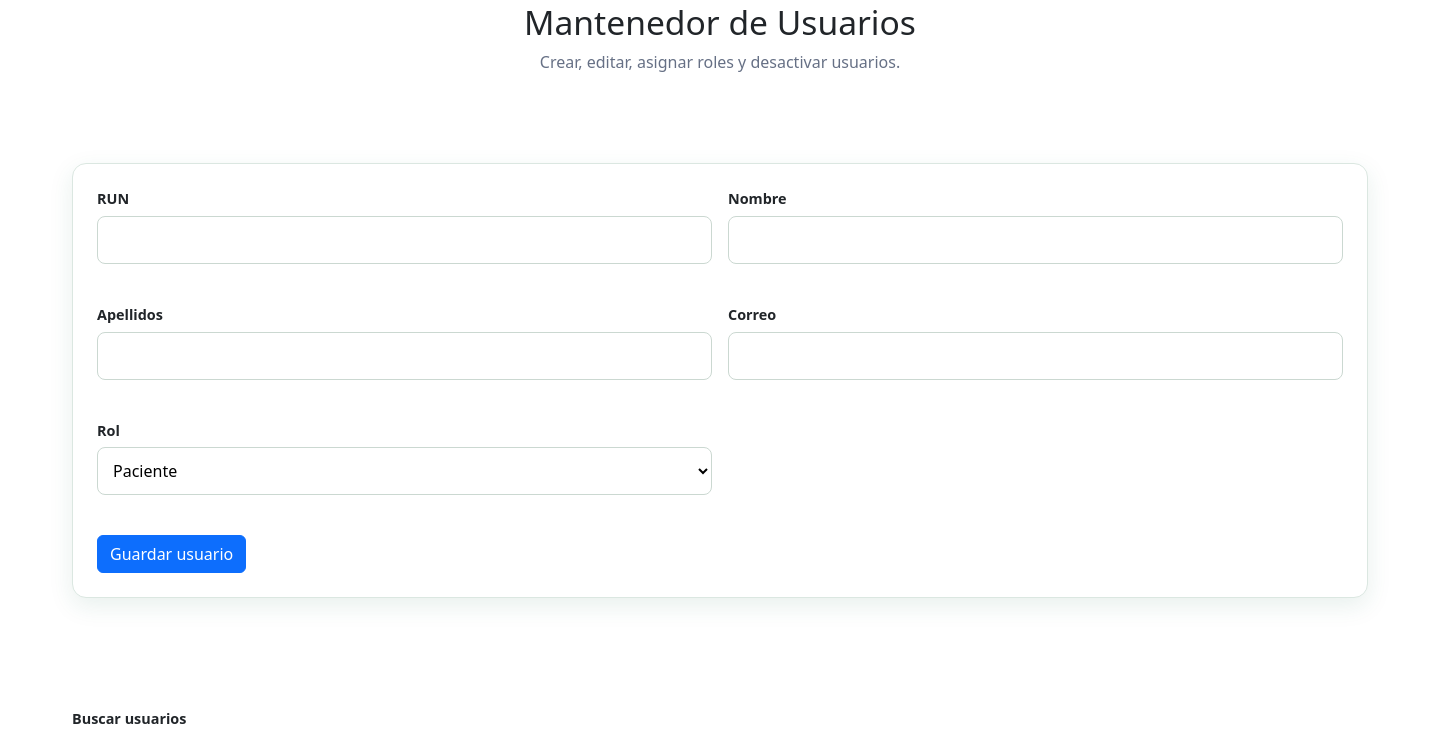
AdminUsuarios › crea un usuario nuevo
Type "12.345.678-5" into the field labelled "RUN" at (404, 240), box x1=97 y1=216 x2=712 y2=264
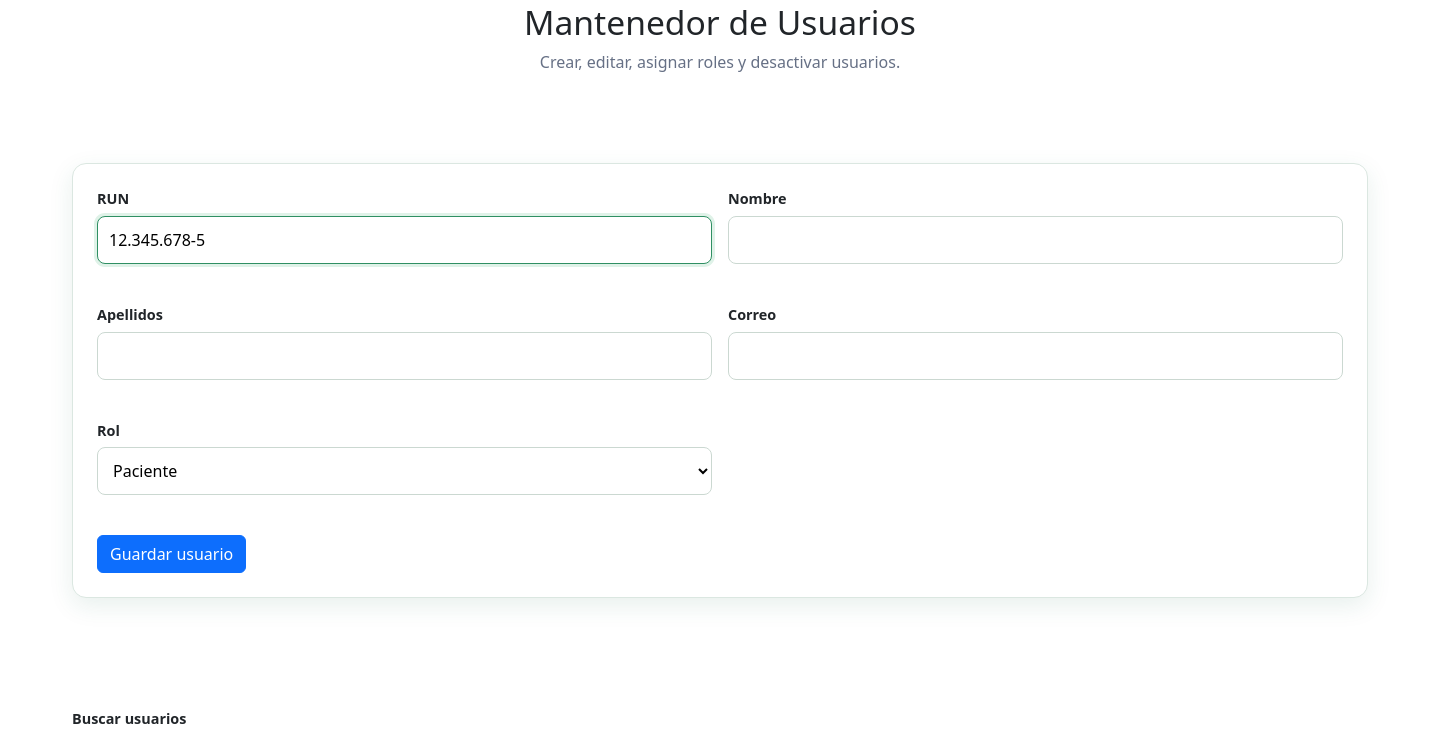
Type "Nuevo" into the field labelled "Nombre" at (1036, 240), box x1=728 y1=216 x2=1343 y2=264
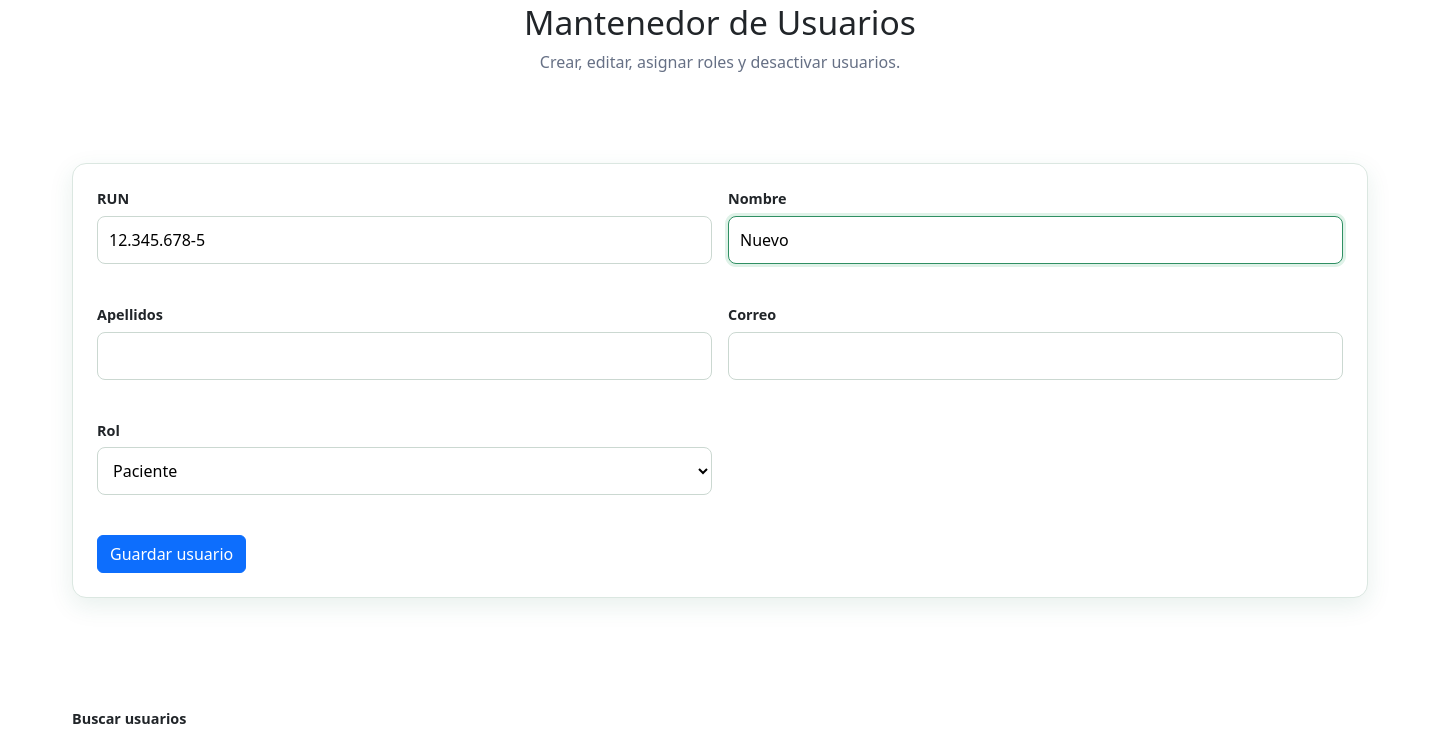
Type "Usuario" into the field labelled "Apellidos" at (404, 356), box x1=97 y1=332 x2=712 y2=380
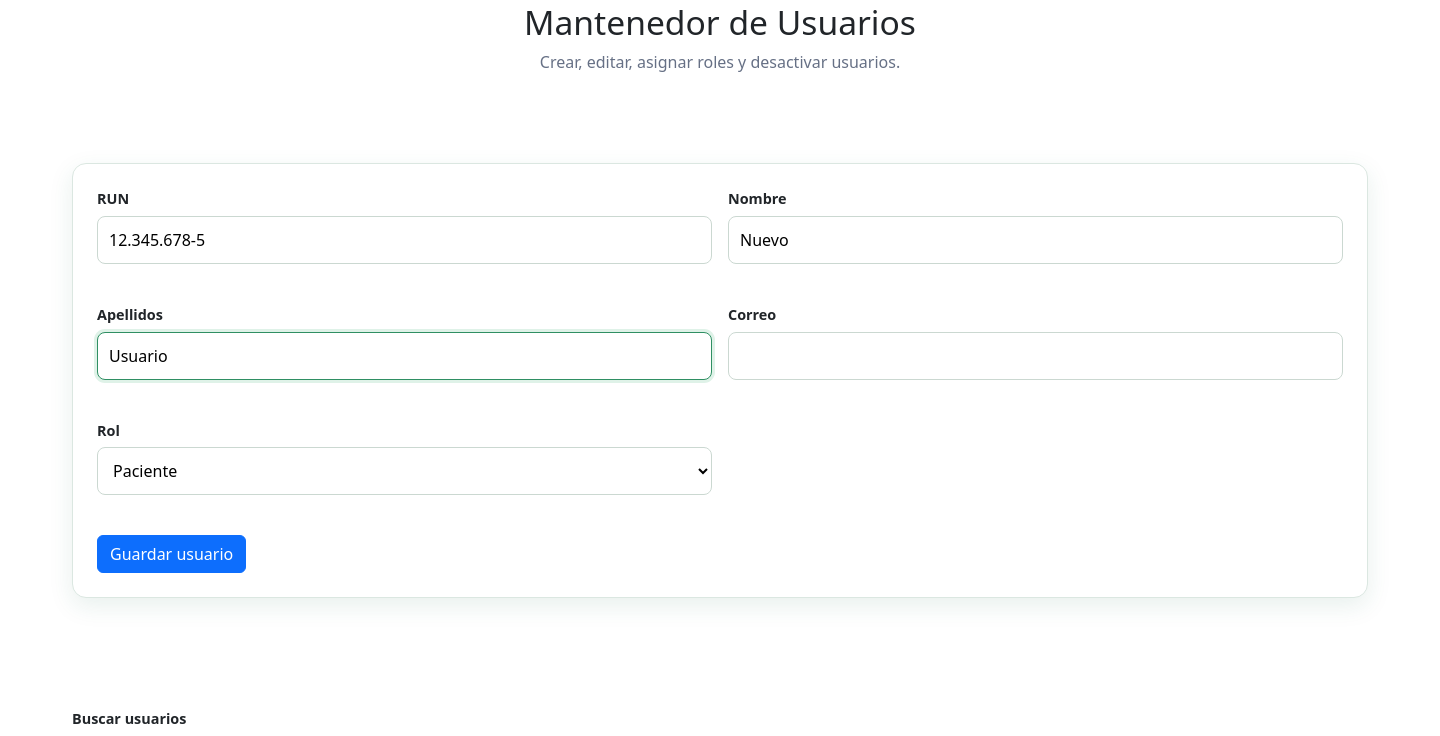
Type "nuevo@test.cl" into the field labelled "Correo" at (1036, 356), box x1=728 y1=332 x2=1343 y2=380
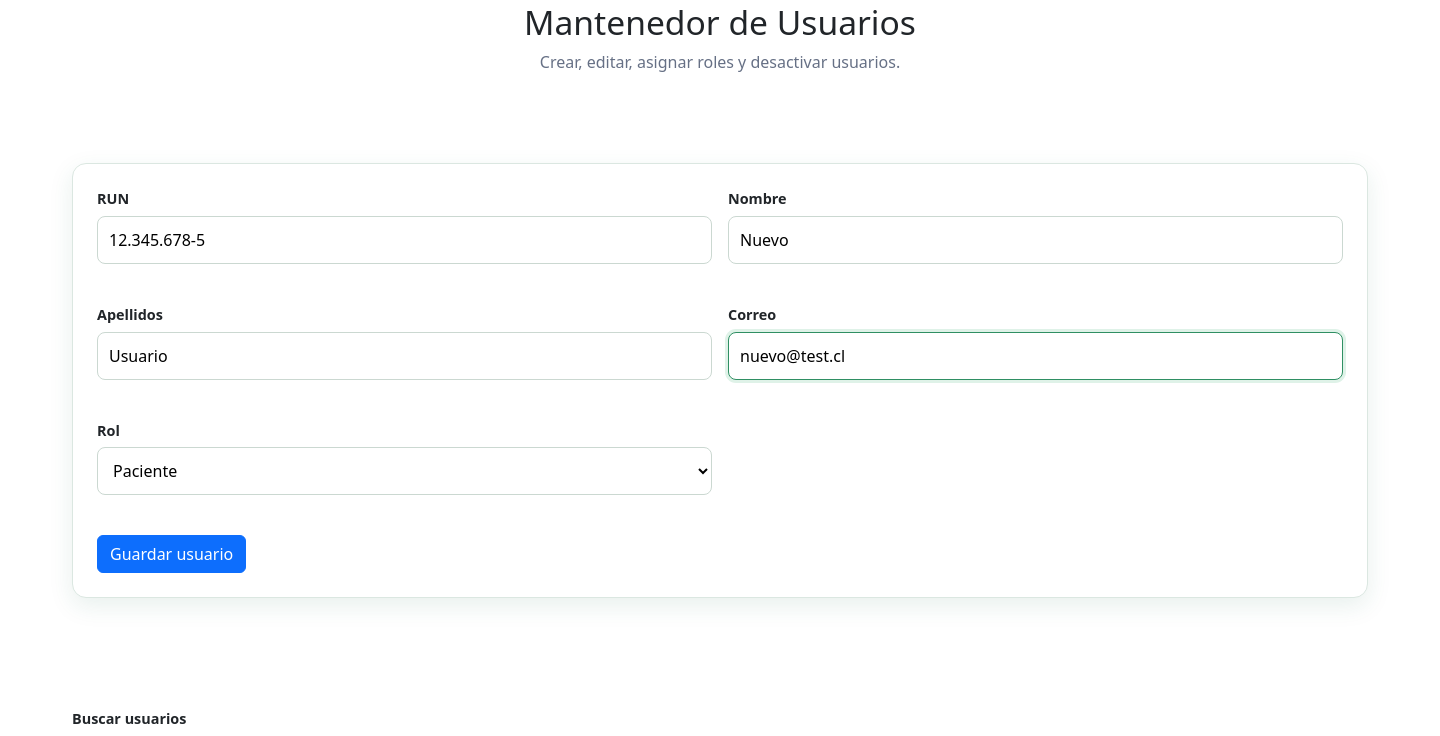
Click the button "Guardar usuario" at (172, 554), box x1=97 y1=535 x2=246 y2=573
(page scrolled)
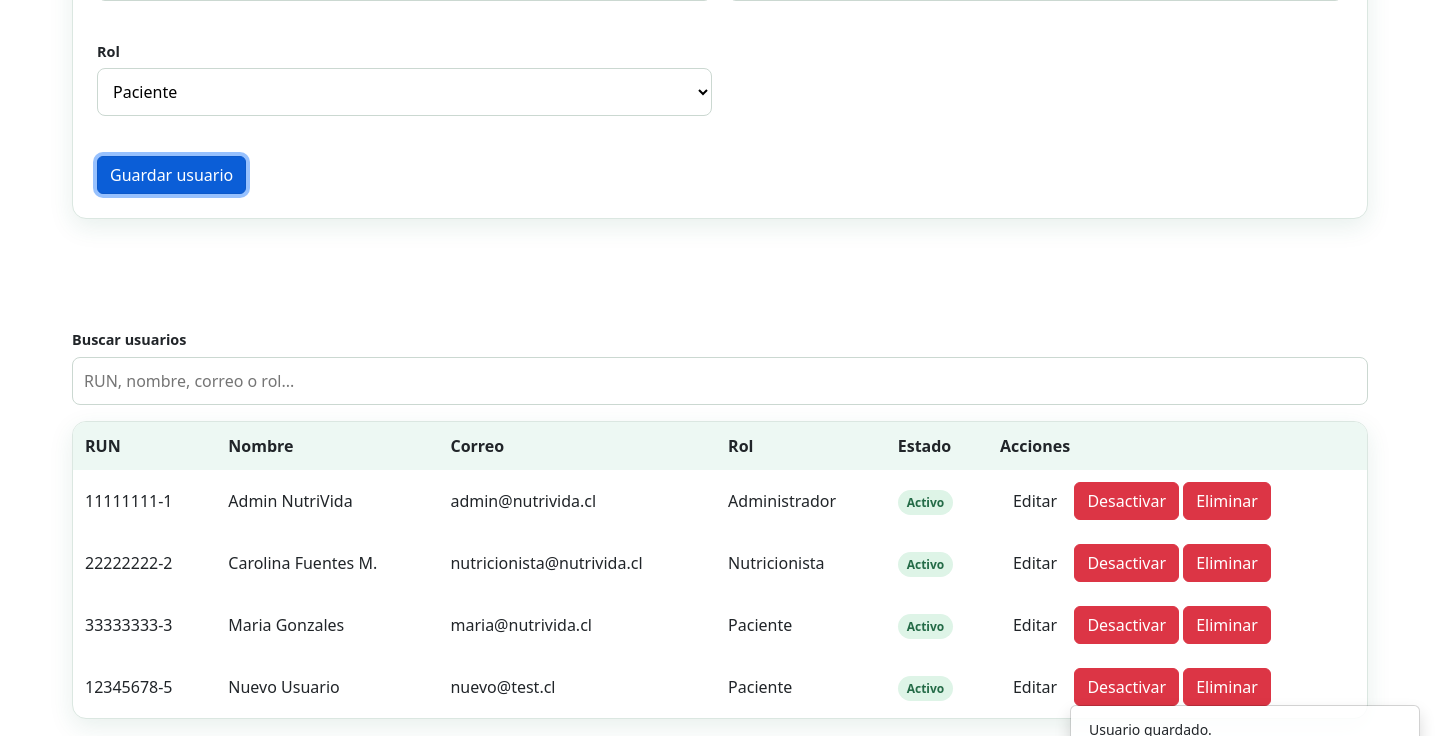
expect the text "Nuevo Usuario" is shown: met, box x1=216 y1=656 x2=438 y2=718
